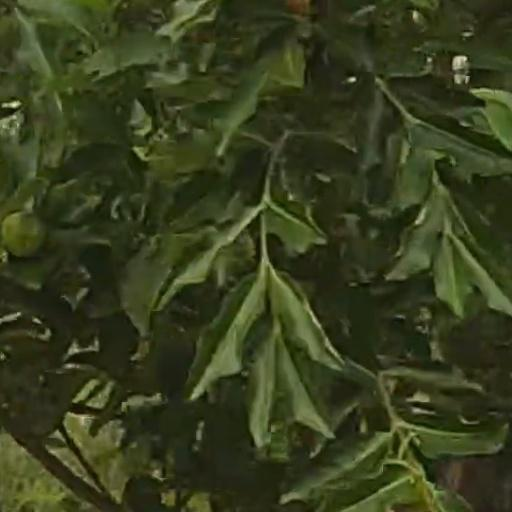acerola: (5, 214, 45, 251)
